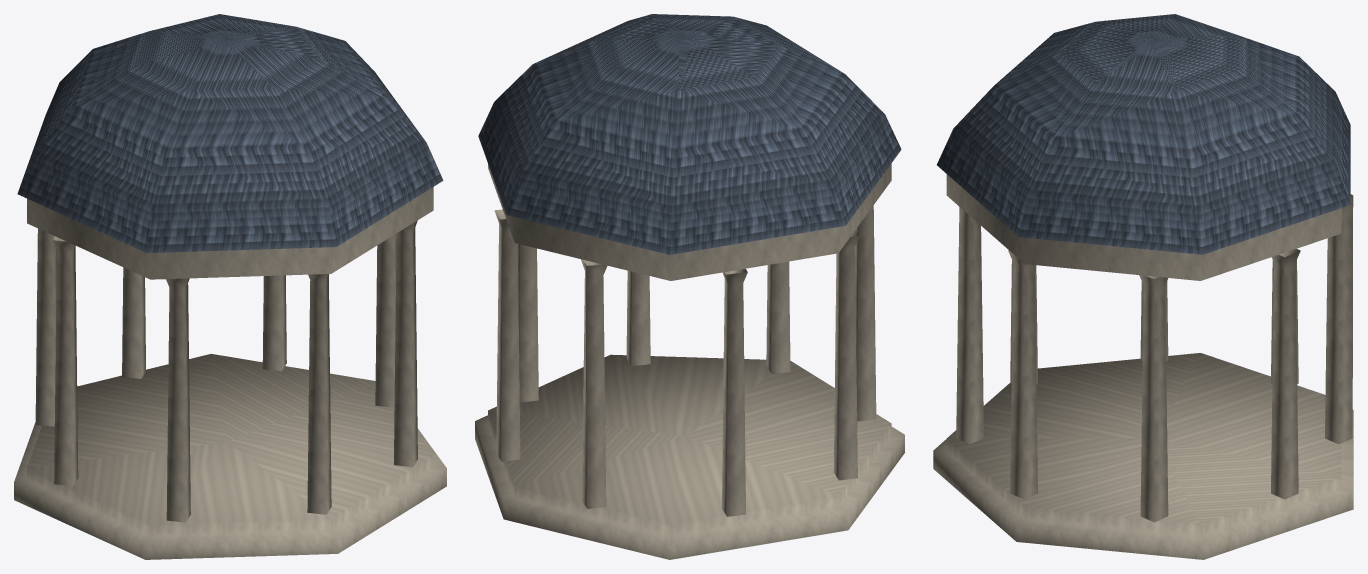
File: Gazebo_Rotunda_1_LOD2.gltf
The picture shows the model from 3 angles, left to right: view 1: azimuth 30°, elevation 25°; view 2: azimuth 150°, elevation 25°; view 3: azimuth 270°, elevation 25°; orthographic projection.
Visible parts, largest first — view 1: Gazebo_Rotunda_1_LOD2; view 2: Gazebo_Rotunda_1_LOD2; view 3: Gazebo_Rotunda_1_LOD2.
Part boxes in pixels (left/top/right/bottom): Gazebo_Rotunda_1_LOD2: left=14, top=14, right=446, bottom=559; Gazebo_Rotunda_1_LOD2: left=475, top=14, right=904, bottom=559; Gazebo_Rotunda_1_LOD2: left=933, top=14, right=1353, bottom=559.
Size of the model in its own units: 6.43 by 7.08 by 6.27.
2 materials, 2 textured.
